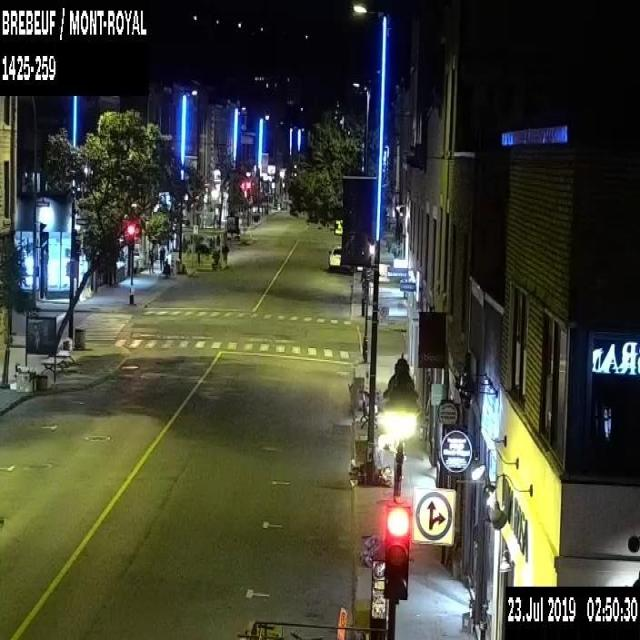pedestrian: (220, 241, 227, 267), (158, 245, 165, 271), (147, 251, 154, 276)
vehicle: (326, 244, 350, 272)
